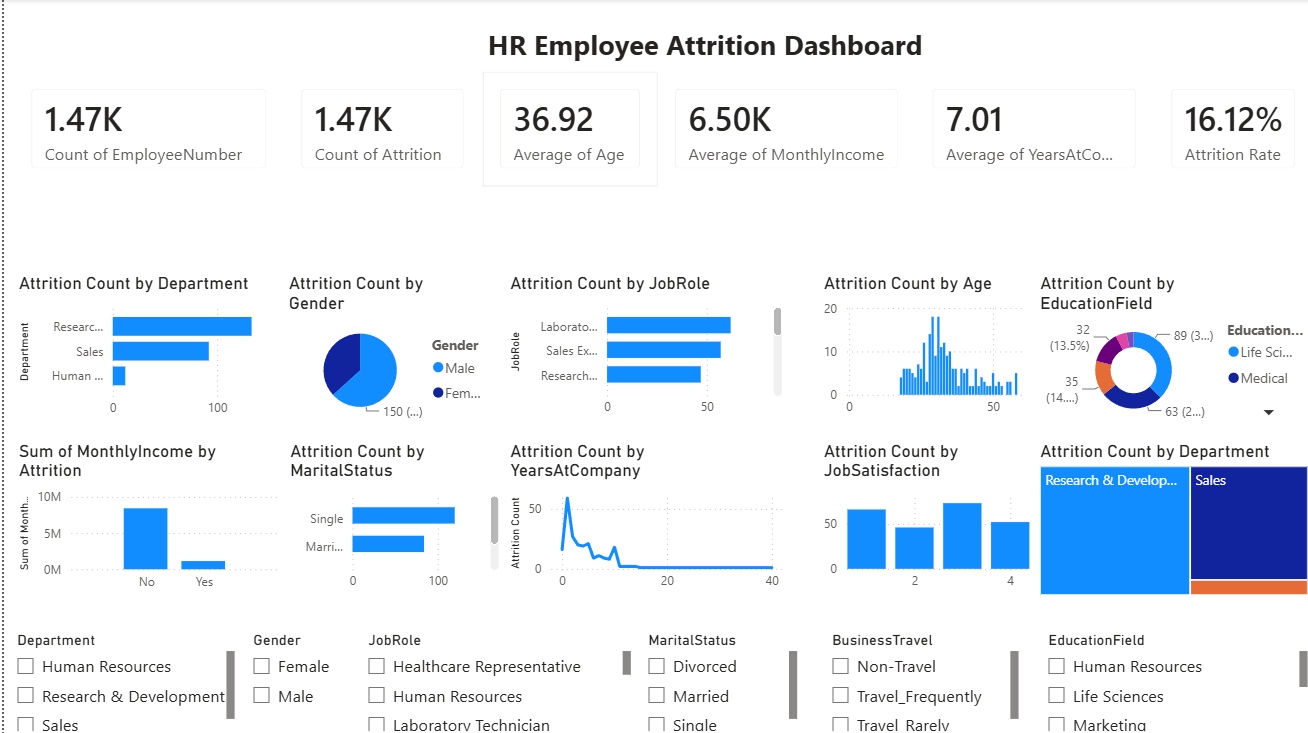

The page's visual inventory and layout, read from the dashboard file:
{"tool":"powerbi","page":{"name":"Page 1","canvas":[1280,720],"ordinal":0},"visuals":[{"type":"cardVisual","fields":{"Data":["CountNonNull(WA_Fn-UseC_-HR-Employee-Attrition.EmployeeNumber)"]},"box":[9.6,71.4,264.8,112.5],"z":0},{"type":"cardVisual","fields":{"Data":["CountNonNull(WA_Fn-UseC_-HR-Employee-Attrition.Attrition)"]},"box":[274.4,71.4,193.5,112.5],"z":1},{"type":"cardVisual","fields":{"Data":["Avg(WA_Fn-UseC_-HR-Employee-Attrition.Age)"]},"box":[467.9,71.4,171.5,112.5],"z":2},{"type":"cardVisual","fields":{"Data":["Avg(WA_Fn-UseC_-HR-Employee-Attrition.MonthlyIncome)"]},"box":[639.5,71.4,252.5,112.5],"z":3},{"type":"cardVisual","fields":{"Data":["Avg(WA_Fn-UseC_-HR-Employee-Attrition.YearsAtCompany)"]},"box":[891.9,71.4,233.3,112.5],"z":4},{"type":"cardVisual","fields":{"Data":["WA_Fn-UseC_-HR-Employee-Attrition.Attrition Rate"]},"box":[1125.2,71.4,155.1,112.5],"z":5},{"type":"clusteredBarChart","fields":{"Category":["WA_Fn-UseC_-HR-Employee-Attrition.Department"],"Y":["WA_Fn-UseC_-HR-Employee-Attrition.Attrition Count"]},"box":[10,267.5,265,150],"z":6},{"type":"pieChart","fields":{"Category":["WA_Fn-UseC_-HR-Employee-Attrition.Gender"],"Y":["WA_Fn-UseC_-HR-Employee-Attrition.Attrition Count"]},"box":[274.4,267.6,215.4,149.6],"z":7},{"type":"clusteredBarChart","fields":{"Category":["WA_Fn-UseC_-HR-Employee-Attrition.JobRole"],"Y":["WA_Fn-UseC_-HR-Employee-Attrition.Attrition Count"]},"box":[489.9,267.6,275.8,149.6],"z":8},{"type":"clusteredColumnChart","fields":{"Category":["WA_Fn-UseC_-HR-Employee-Attrition.Age"],"Y":["WA_Fn-UseC_-HR-Employee-Attrition.Attrition Count"]},"box":[797.3,267.6,211.3,149.6],"z":9},{"type":"donutChart","fields":{"Category":["WA_Fn-UseC_-HR-Employee-Attrition.EducationField"],"Y":["WA_Fn-UseC_-HR-Employee-Attrition.Attrition Count"]},"box":[1008.6,267.6,271.7,149.6],"z":10},{"type":"clusteredColumnChart","fields":{"Category":["WA_Fn-UseC_-HR-Employee-Attrition.Attrition"],"Y":["Sum(WA_Fn-UseC_-HR-Employee-Attrition.MonthlyIncome)"]},"box":[9.6,432.2,264.8,156.4],"z":11},{"type":"clusteredBarChart","fields":{"Category":["WA_Fn-UseC_-HR-Employee-Attrition.MaritalStatus"],"Y":["WA_Fn-UseC_-HR-Employee-Attrition.Attrition Count"]},"box":[275,432,214,156],"z":12},{"type":"lineChart","fields":{"Y":["WA_Fn-UseC_-HR-Employee-Attrition.Attrition Count"],"Category":["WA_Fn-UseC_-HR-Employee-Attrition.YearsAtCompany"]},"box":[490,432,276,156],"z":13},{"type":"columnChart","fields":{"Y":["WA_Fn-UseC_-HR-Employee-Attrition.Attrition Count"],"Category":["WA_Fn-UseC_-HR-Employee-Attrition.JobSatisfaction"]},"box":[797,432,211,156],"z":14},{"type":"treemap","fields":{"Group":["WA_Fn-UseC_-HR-Employee-Attrition.Department"],"Values":["WA_Fn-UseC_-HR-Employee-Attrition.Attrition Count"]},"box":[1008.6,432.2,271.7,156.4],"z":15},{"type":"slicer","fields":{"Values":["WA_Fn-UseC_-HR-Employee-Attrition.Department"]},"box":[0,613.4,230.5,107],"z":16},{"type":"slicer","fields":{"Values":["WA_Fn-UseC_-HR-Employee-Attrition.Gender"]},"box":[230.5,613.4,102.9,107],"z":17},{"type":"slicer","fields":{"Values":["WA_Fn-UseC_-HR-Employee-Attrition.JobRole"]},"box":[343.1,613.4,274.4,107],"z":18},{"type":"slicer","fields":{"Values":["WA_Fn-UseC_-HR-Employee-Attrition.MaritalStatus"]},"box":[617.5,613.4,163.3,107],"z":19},{"type":"slicer","fields":{"Values":["WA_Fn-UseC_-HR-Employee-Attrition.BusinessTravel"]},"box":[797.3,613.4,200.3,107],"z":20},{"type":"slicer","fields":{"Values":["WA_Fn-UseC_-HR-Employee-Attrition.EducationField"]},"box":[1008.6,613.4,271.7,107],"z":21},{"type":"textbox","box":[467.9,20.6,529.7,50.8],"z":22}]}

Visuals, with their boxes in screenshot pixels (x1, y1, x2, y2), scaled from the page's 1280x720 canvas onto the 1308x733 screenshot:
cardVisual - CountNonNull(WA_Fn-UseC_-HR-Employee-Attrition.EmployeeNumber): region(10, 73, 280, 187)
cardVisual - CountNonNull(WA_Fn-UseC_-HR-Employee-Attrition.Attrition): region(280, 73, 478, 187)
cardVisual - Avg(WA_Fn-UseC_-HR-Employee-Attrition.Age): region(478, 73, 653, 187)
cardVisual - Avg(WA_Fn-UseC_-HR-Employee-Attrition.MonthlyIncome): region(653, 73, 912, 187)
cardVisual - Avg(WA_Fn-UseC_-HR-Employee-Attrition.YearsAtCompany): region(911, 73, 1150, 187)
cardVisual - WA_Fn-UseC_-HR-Employee-Attrition.Attrition Rate: region(1150, 73, 1307, 187)
clusteredBarChart - WA_Fn-UseC_-HR-Employee-Attrition.Department x WA_Fn-UseC_-HR-Employee-Attrition.Attrition Count: region(10, 272, 281, 425)
pieChart - WA_Fn-UseC_-HR-Employee-Attrition.Gender x WA_Fn-UseC_-HR-Employee-Attrition.Attrition Count: region(280, 272, 501, 425)
clusteredBarChart - WA_Fn-UseC_-HR-Employee-Attrition.JobRole x WA_Fn-UseC_-HR-Employee-Attrition.Attrition Count: region(501, 272, 782, 425)
clusteredColumnChart - WA_Fn-UseC_-HR-Employee-Attrition.Age x WA_Fn-UseC_-HR-Employee-Attrition.Attrition Count: region(815, 272, 1031, 425)
donutChart - WA_Fn-UseC_-HR-Employee-Attrition.EducationField x WA_Fn-UseC_-HR-Employee-Attrition.Attrition Count: region(1031, 272, 1307, 425)
clusteredColumnChart - WA_Fn-UseC_-HR-Employee-Attrition.Attrition x Sum(WA_Fn-UseC_-HR-Employee-Attrition.MonthlyIncome): region(10, 440, 280, 599)
clusteredBarChart - WA_Fn-UseC_-HR-Employee-Attrition.MaritalStatus x WA_Fn-UseC_-HR-Employee-Attrition.Attrition Count: region(281, 440, 500, 599)
lineChart - WA_Fn-UseC_-HR-Employee-Attrition.Attrition Count x WA_Fn-UseC_-HR-Employee-Attrition.YearsAtCompany: region(501, 440, 783, 599)
columnChart - WA_Fn-UseC_-HR-Employee-Attrition.Attrition Count x WA_Fn-UseC_-HR-Employee-Attrition.JobSatisfaction: region(814, 440, 1030, 599)
treemap - WA_Fn-UseC_-HR-Employee-Attrition.Department x WA_Fn-UseC_-HR-Employee-Attrition.Attrition Count: region(1031, 440, 1307, 599)
slicer - WA_Fn-UseC_-HR-Employee-Attrition.Department: region(0, 624, 236, 732)
slicer - WA_Fn-UseC_-HR-Employee-Attrition.Gender: region(236, 624, 341, 732)
slicer - WA_Fn-UseC_-HR-Employee-Attrition.JobRole: region(351, 624, 631, 732)
slicer - WA_Fn-UseC_-HR-Employee-Attrition.MaritalStatus: region(631, 624, 798, 732)
slicer - WA_Fn-UseC_-HR-Employee-Attrition.BusinessTravel: region(815, 624, 1019, 732)
slicer - WA_Fn-UseC_-HR-Employee-Attrition.EducationField: region(1031, 624, 1307, 732)
textbox: region(478, 21, 1019, 73)
